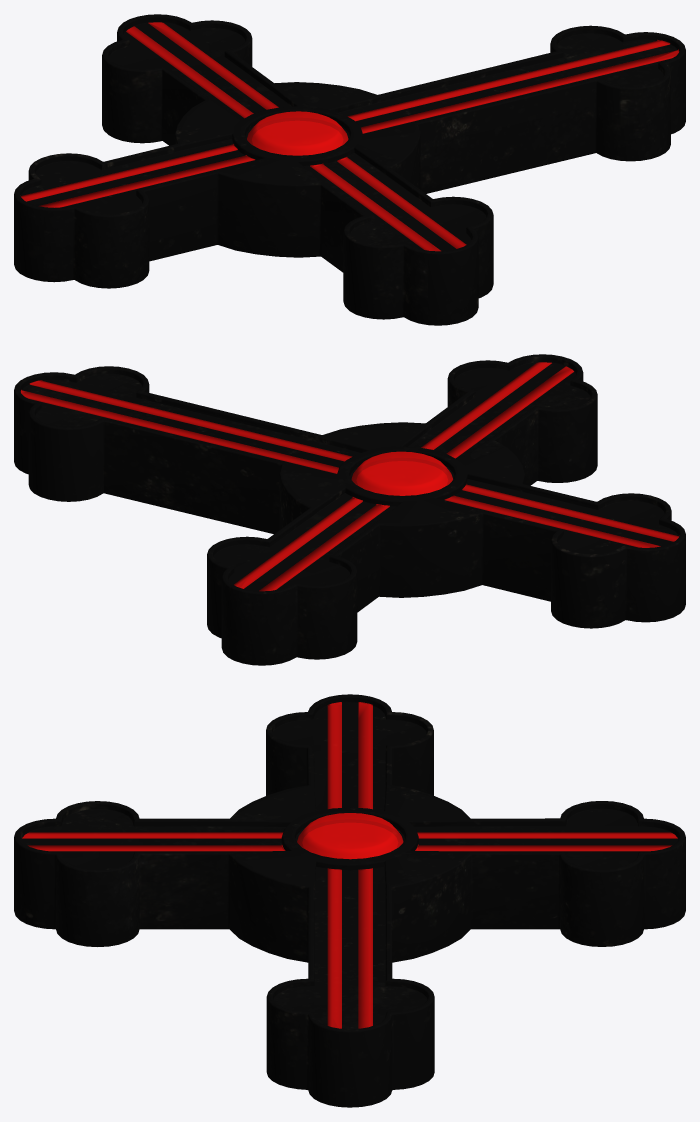
Rendered from CrucifixFinal.fbx.
3 views of the same model, one above another, from view 1: azimuth 30°, elevation 25°; view 2: azimuth 150°, elevation 25°; view 3: azimuth 270°, elevation 25° (orthographic). The views are drawn at different scales.
Parts seen in each view (by area): view 1: Cube.002, RedStone, RedStone.001, RedStoneCenter; view 2: Cube.002, RedStone, RedStone.001, RedStoneCenter; view 3: Cube.002, RedStone, RedStone.001, RedStoneCenter.
Part boxes in pixels (<box>): Cube.002: <box>14,14,685,325</box>; RedStone: <box>20,40,679,207</box>; RedStone.001: <box>126,22,466,251</box>; RedStoneCenter: <box>247,111,348,155</box>; Cube.002: <box>14,354,685,665</box>; RedStone: <box>20,380,679,547</box>; RedStone.001: <box>234,362,573,591</box>; RedStoneCenter: <box>351,451,452,495</box>; Cube.002: <box>14,694,685,1107</box>; RedStone: <box>327,702,372,1028</box>; RedStone.001: <box>22,832,677,851</box>; RedStoneCenter: <box>297,813,403,859</box>.
Bounding box in the file's own units: 1900 × 213 × 1598.
Materials: 2 (1 with a texture image).
